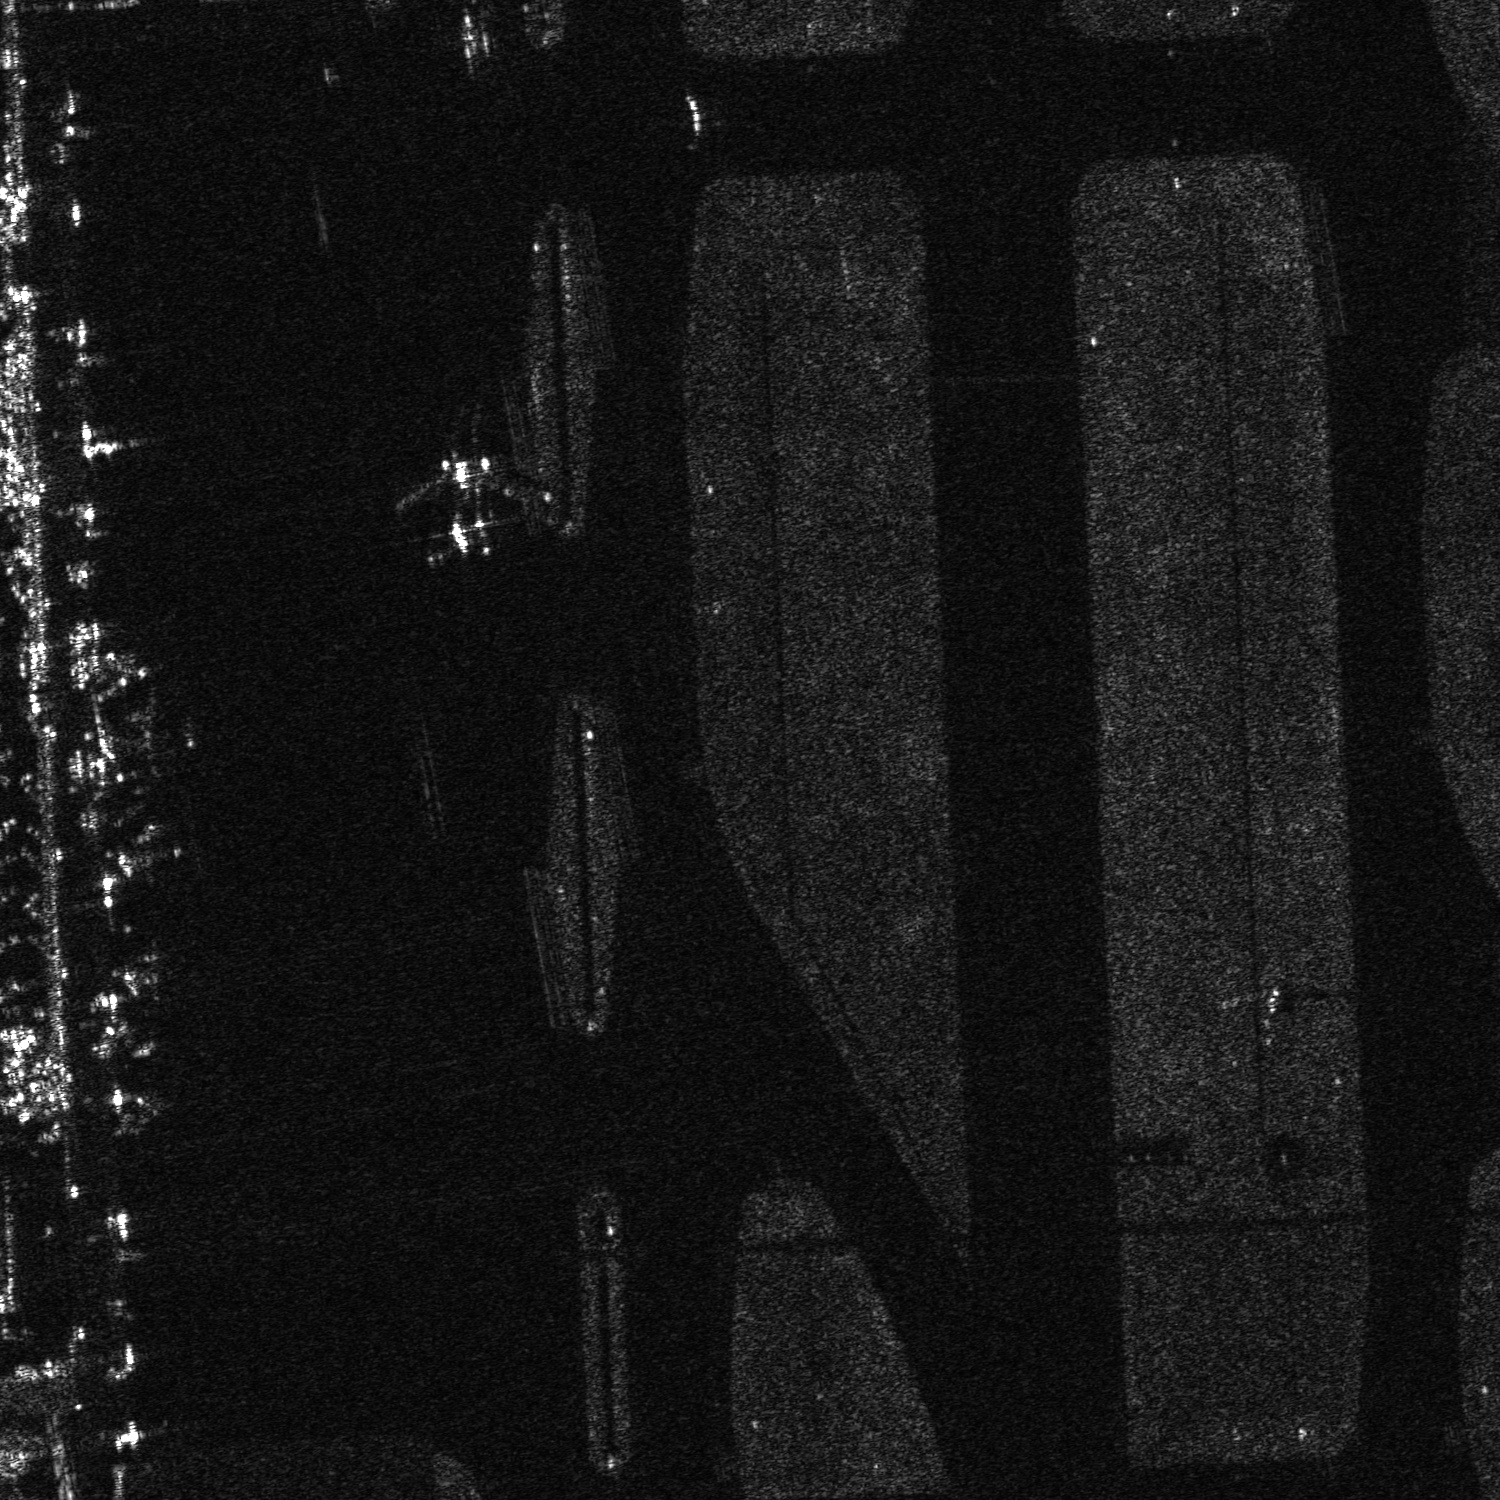A220: (89, 685, 203, 797)
other: (393, 451, 534, 577), (100, 812, 206, 894), (113, 934, 190, 1015)
